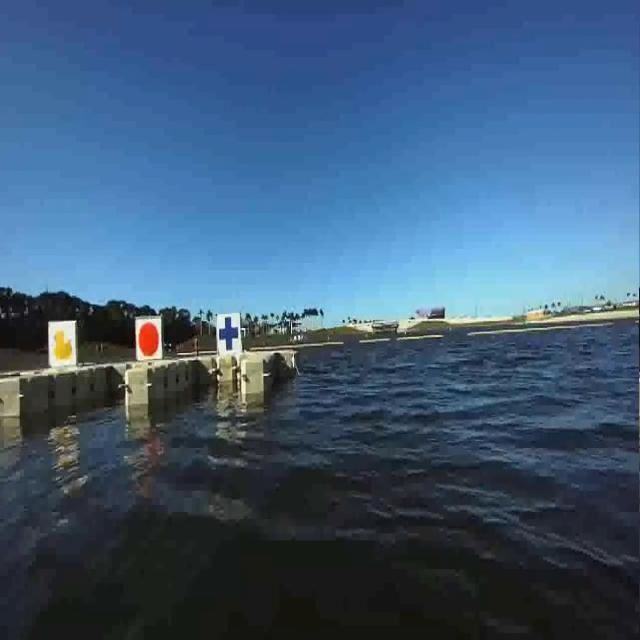blue-cross: (216, 312, 242, 358)
red-dot: (132, 307, 164, 360)
yellow-duck: (52, 327, 74, 361)
